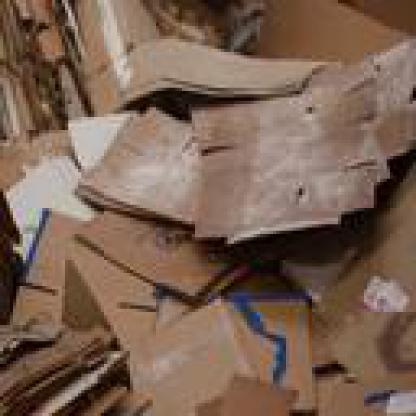CARDBOARD: (0, 0, 413, 413), (188, 62, 384, 237), (318, 153, 413, 390), (124, 299, 296, 413), (72, 208, 276, 296), (91, 32, 335, 98), (72, 101, 188, 224), (6, 201, 110, 328), (214, 263, 332, 374), (221, 0, 413, 62), (0, 198, 88, 325), (65, 231, 156, 351), (0, 322, 104, 412), (0, 0, 63, 137), (3, 146, 88, 247), (351, 29, 413, 156), (61, 0, 152, 72), (22, 348, 124, 412), (0, 120, 68, 205), (266, 234, 354, 292), (62, 108, 133, 162), (146, 0, 218, 39), (316, 374, 380, 412), (84, 380, 146, 413), (62, 61, 88, 124), (380, 387, 413, 413)
